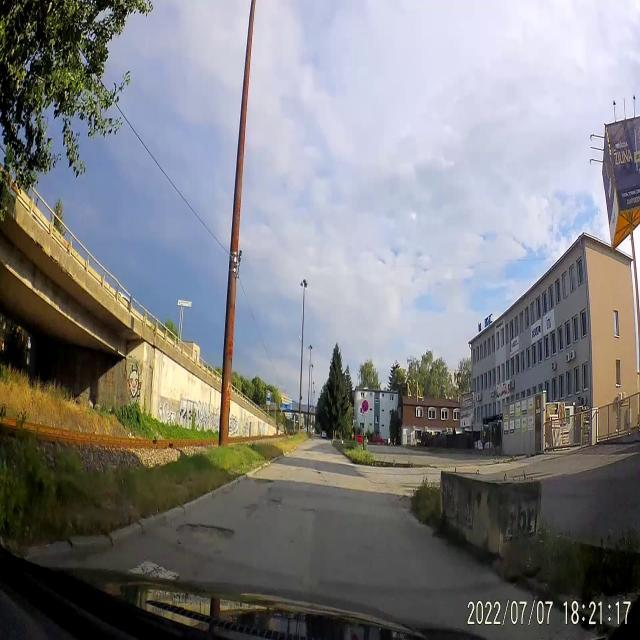Pothole: (180, 519, 234, 545), (247, 476, 274, 490), (267, 497, 284, 511), (300, 506, 318, 514), (311, 467, 323, 477)
